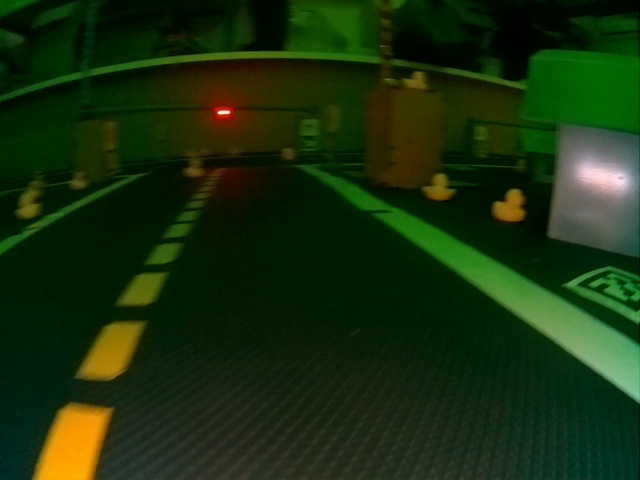Duckie: (492, 188, 528, 222), (423, 173, 456, 201), (404, 70, 430, 90), (184, 159, 206, 179), (69, 171, 88, 189), (282, 148, 295, 160)
QR code: (563, 266, 636, 327)
